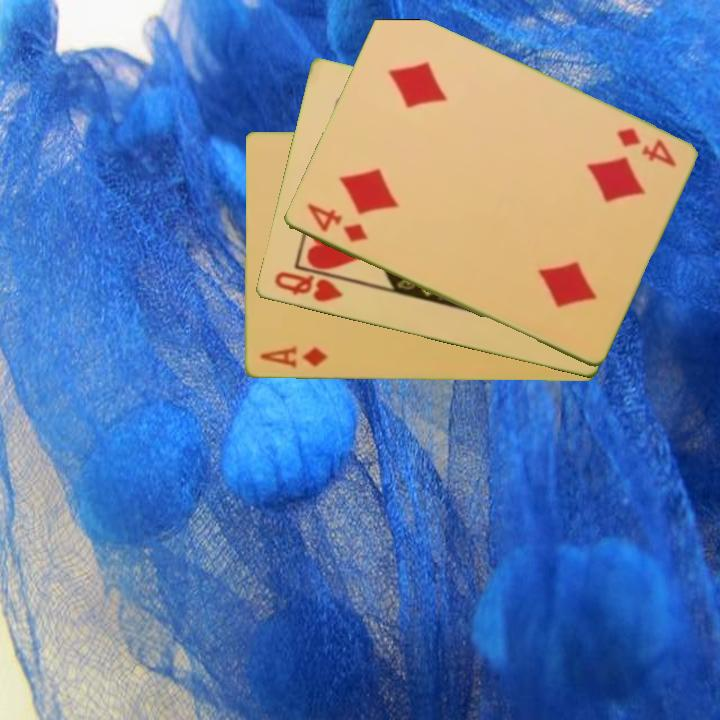4d: (302, 200, 371, 246), (612, 124, 679, 171)
Ad: (256, 343, 330, 372)
Qh: (270, 268, 345, 305)
